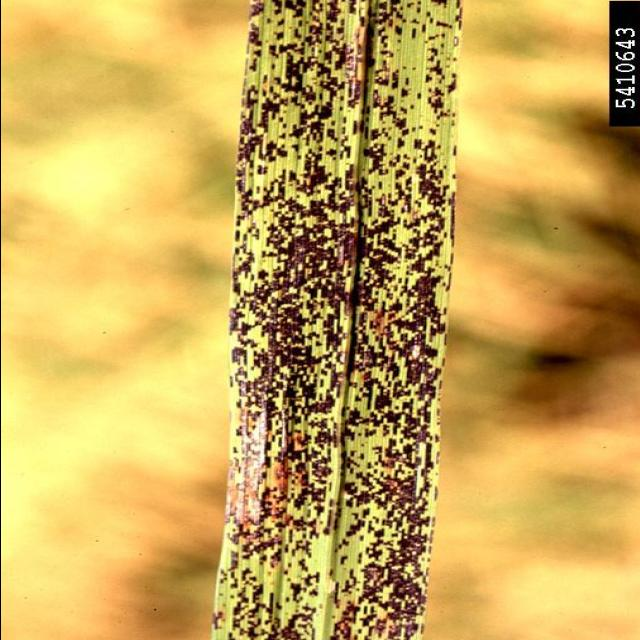Brown spot: (208, 0, 465, 640)
